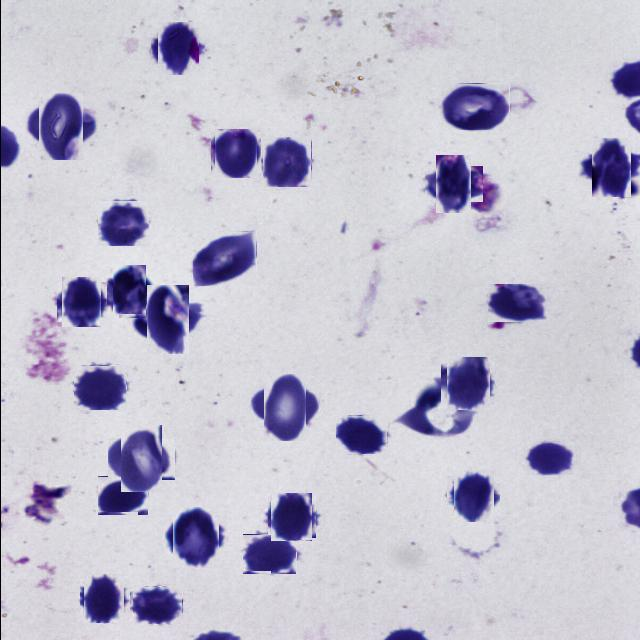red blood cell: (192, 231, 256, 286), (438, 83, 509, 130), (32, 98, 88, 154), (138, 291, 194, 347), (256, 380, 312, 434), (168, 510, 222, 564), (114, 432, 168, 486), (260, 137, 310, 187), (442, 360, 492, 408), (586, 142, 634, 192), (97, 200, 149, 246), (73, 365, 126, 410), (153, 24, 201, 72), (429, 160, 476, 208), (487, 284, 546, 322), (242, 534, 296, 574), (450, 473, 496, 519), (80, 576, 126, 622), (212, 130, 258, 176), (268, 494, 313, 540), (335, 415, 387, 454), (58, 280, 104, 324), (97, 476, 148, 515), (132, 586, 182, 624), (107, 270, 150, 314), (526, 442, 573, 475)
